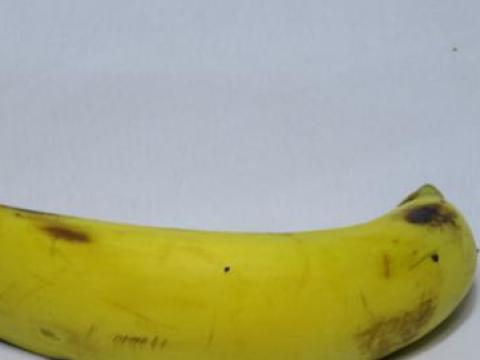freshripe: (0, 171, 479, 359)
